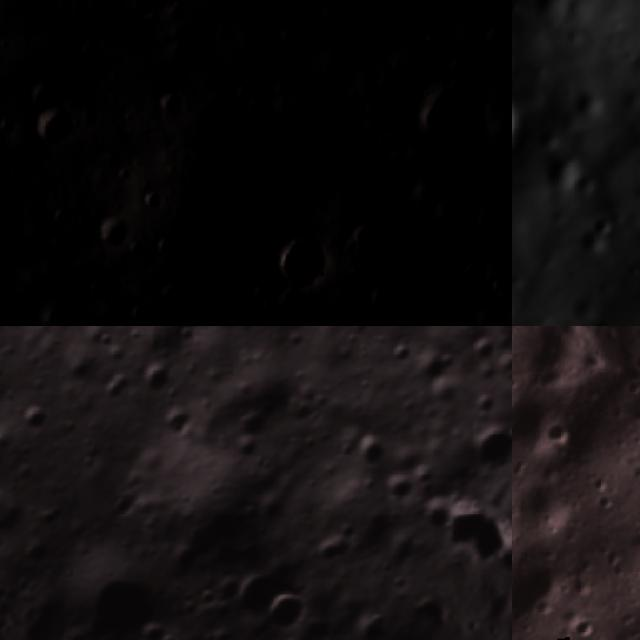crater: (142, 137, 323, 285), (70, 563, 177, 640), (406, 74, 493, 162), (512, 548, 575, 633), (224, 560, 286, 628), (460, 411, 512, 485), (270, 234, 330, 297), (257, 581, 318, 640), (401, 340, 455, 394), (342, 212, 396, 264), (126, 356, 178, 405), (31, 105, 80, 154), (410, 496, 457, 544), (359, 280, 408, 326), (11, 394, 56, 440), (91, 208, 138, 252), (105, 486, 147, 528), (472, 204, 512, 246), (512, 75, 532, 154), (26, 81, 71, 116), (466, 331, 504, 372), (539, 413, 577, 452), (469, 295, 512, 326), (575, 90, 611, 127), (157, 89, 195, 122), (33, 300, 80, 326), (463, 257, 499, 289), (481, 20, 512, 56), (584, 210, 622, 239), (430, 197, 459, 228), (228, 84, 254, 112), (0, 432, 13, 485), (371, 0, 394, 8)
